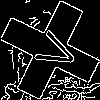V: (25, 25, 81, 75)
